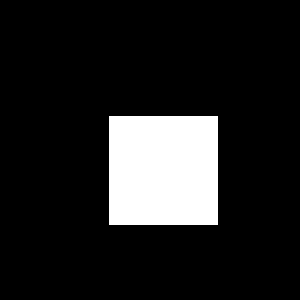circle: (109, 116, 218, 225)
